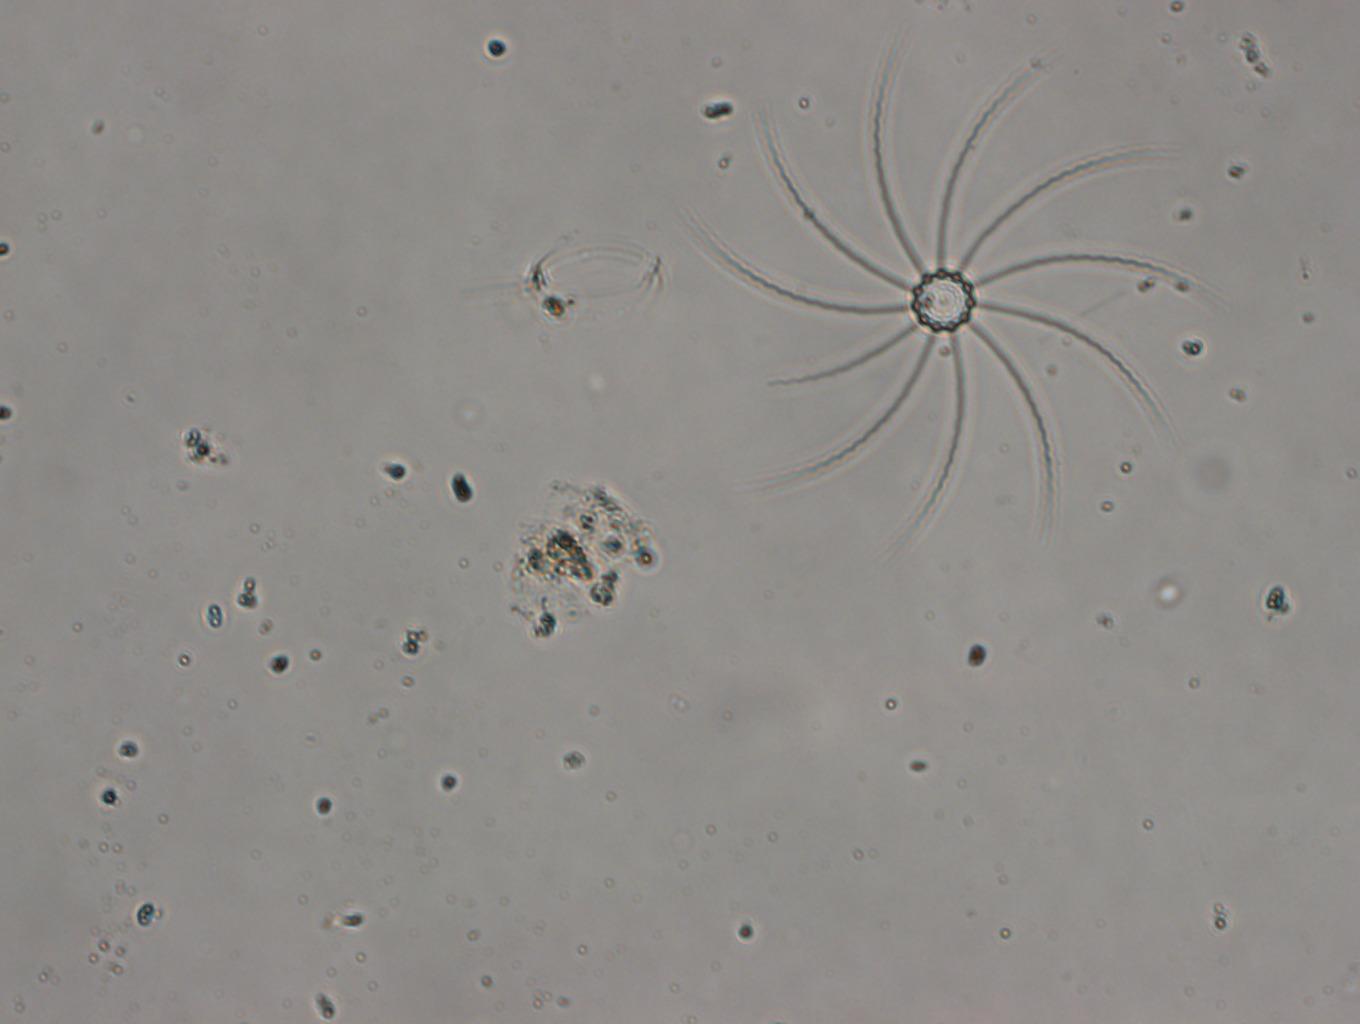bacteriastrum: (678, 35, 1217, 553)
chaetoceros: (450, 236, 665, 325)
